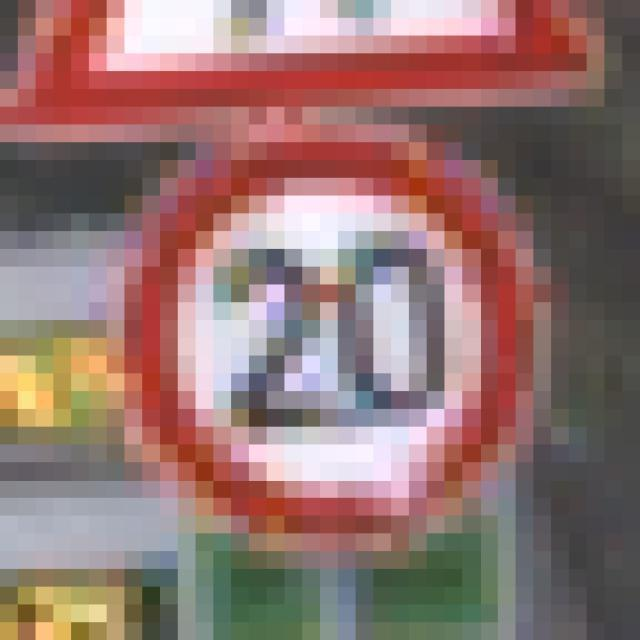Ograniczenie predkosci do 20: (117, 117, 550, 549)
